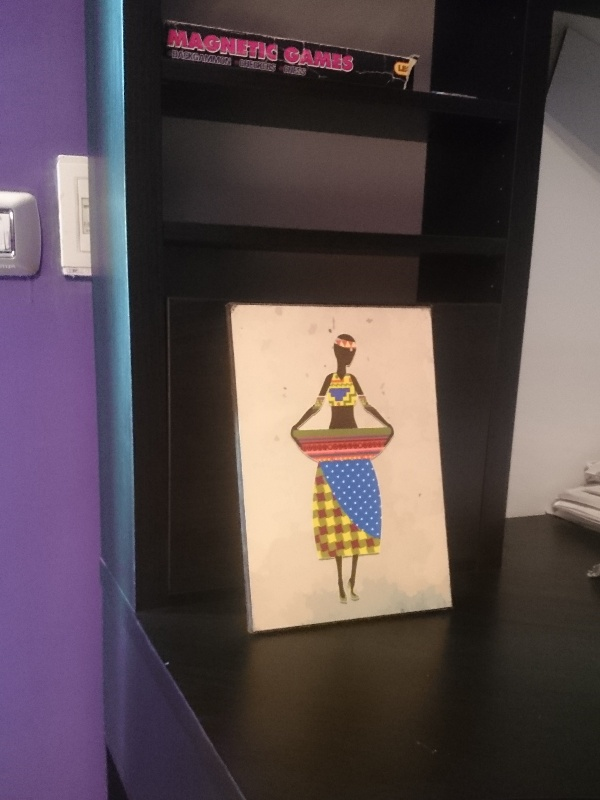my image: (228, 303, 448, 633)
